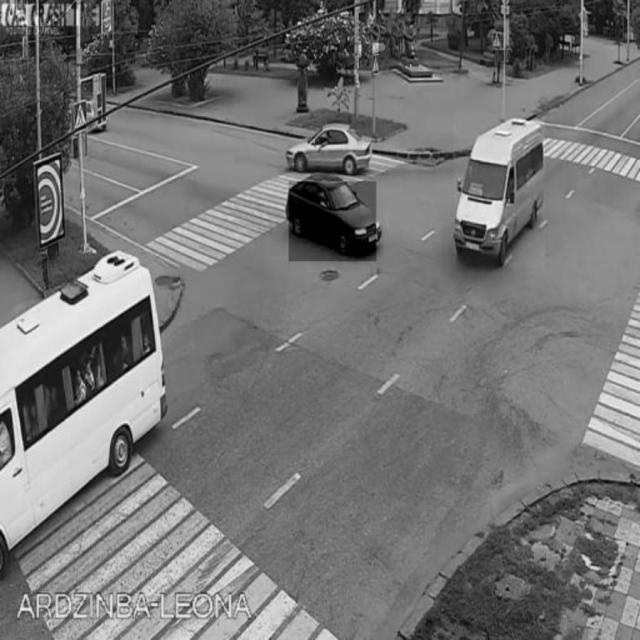vehicle: (0, 250, 165, 528), (454, 113, 545, 267), (289, 182, 377, 262), (293, 129, 373, 174)
